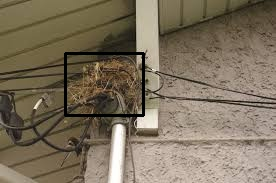bird-nest: (75, 60, 140, 118)
